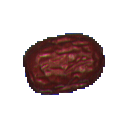gd: (18, 23, 112, 111)
